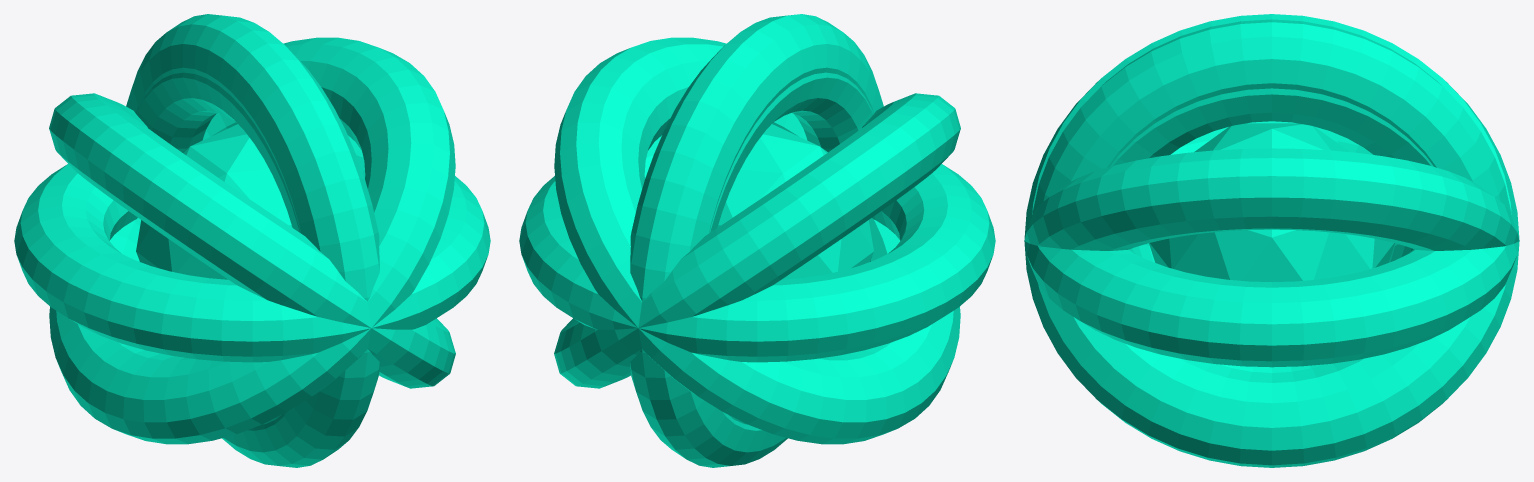
The model's file is shild tree seed1.fbx.
The picture shows the model from 3 angles, left to right: view 1: azimuth 30°, elevation 25°; view 2: azimuth 150°, elevation 25°; view 3: azimuth 270°, elevation 25°; orthographic projection. The views are drawn at different scales.
Parts seen in each view (by area): view 1: Icosphere; view 2: Icosphere; view 3: Icosphere.
Boxes of the visible parts, left/top/right/bottom form: Icosphere: left=14, top=14, right=490, bottom=467; Icosphere: left=519, top=14, right=995, bottom=467; Icosphere: left=1024, top=14, right=1519, bottom=467.
Size of the model in its own units: 600 by 585 by 600.
